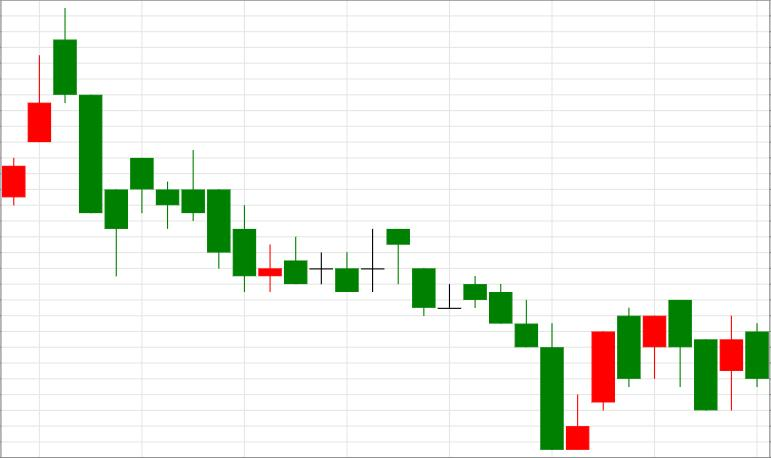inverse_hammer_rise: (387, 229, 589, 450)
